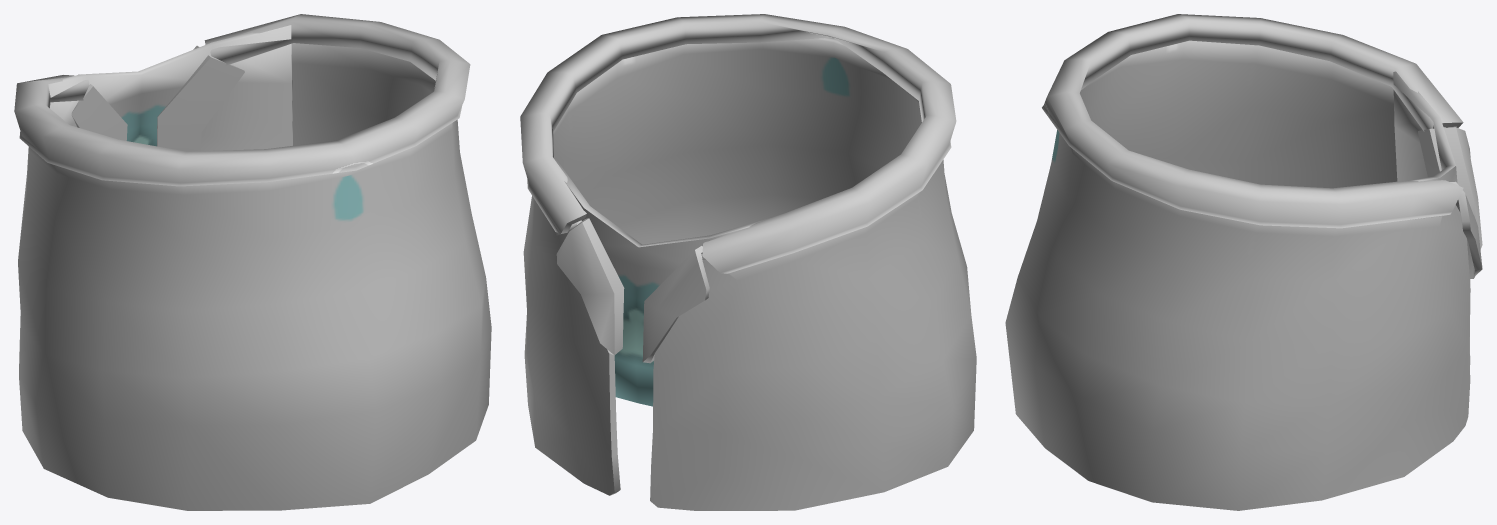
File: IG_Armor_WhiteGown.fbx
The picture shows the model from 3 angles, left to right: view 1: azimuth 30°, elevation 25°; view 2: azimuth 150°, elevation 25°; view 3: azimuth 270°, elevation 25°; orthographic projection. The views are drawn at different scales.
Visible parts, largest first — view 1: WhiteGown_V2; view 2: WhiteGown_V2; view 3: WhiteGown_V2.
Boxes of the visible parts, x1=… form: WhiteGown_V2: x1=14, y1=14, x2=491, y2=510; WhiteGown_V2: x1=520, y1=14, x2=976, y2=510; WhiteGown_V2: x1=1005, y1=14, x2=1482, y2=510.
Bounding box in the file's own units: 0.6377 × 0.4834 × 0.6455.
